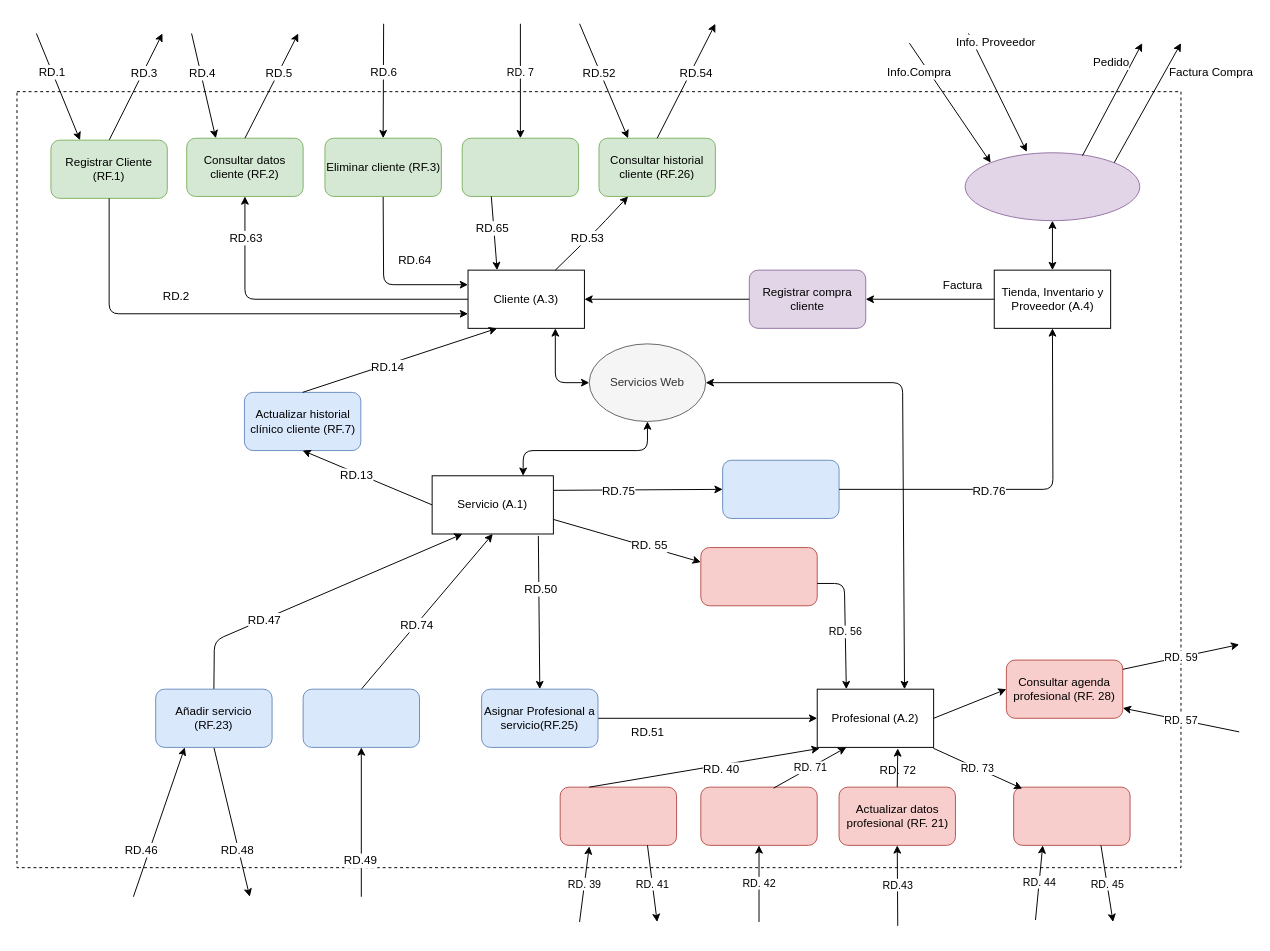
Image size: 1270x951. Some labels were removed from this diagram. The shapes that lost their labels are listed below. From the top down, each one's centre as x and y in pixels, then its label:
the point at 520,166: Modificar datos cliente (RF.4)
the point at 1052,186: Gestión Tienda, Inventario y Proveedores
the point at 780,488: Registrar Uso Producto (RF.30)
the point at 758,576: Actualizar agenda profesional (RF. 27)
the point at 361,717: Eliminar servicio (RF.24)
the point at 618,815: Registrar profesional (RF. 19)
the point at 758,815: Eliminar profesional (RF. 20)
the point at 1071,815: Consultar datos profesional (RF. 22)
